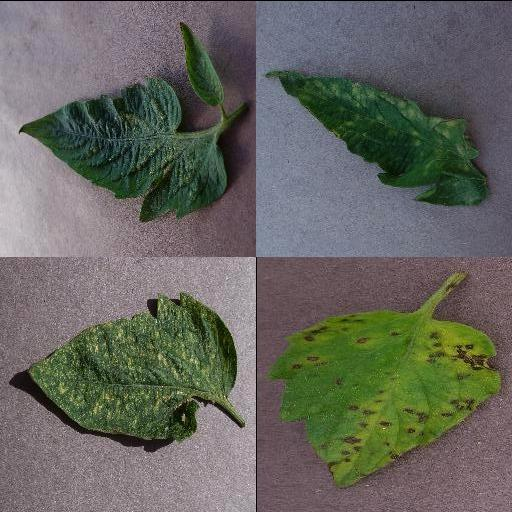Leaf Mold: (266, 68, 490, 208)
Septoria: (267, 308, 501, 490)
Spider Mites: (25, 292, 239, 442), (18, 75, 228, 223)
